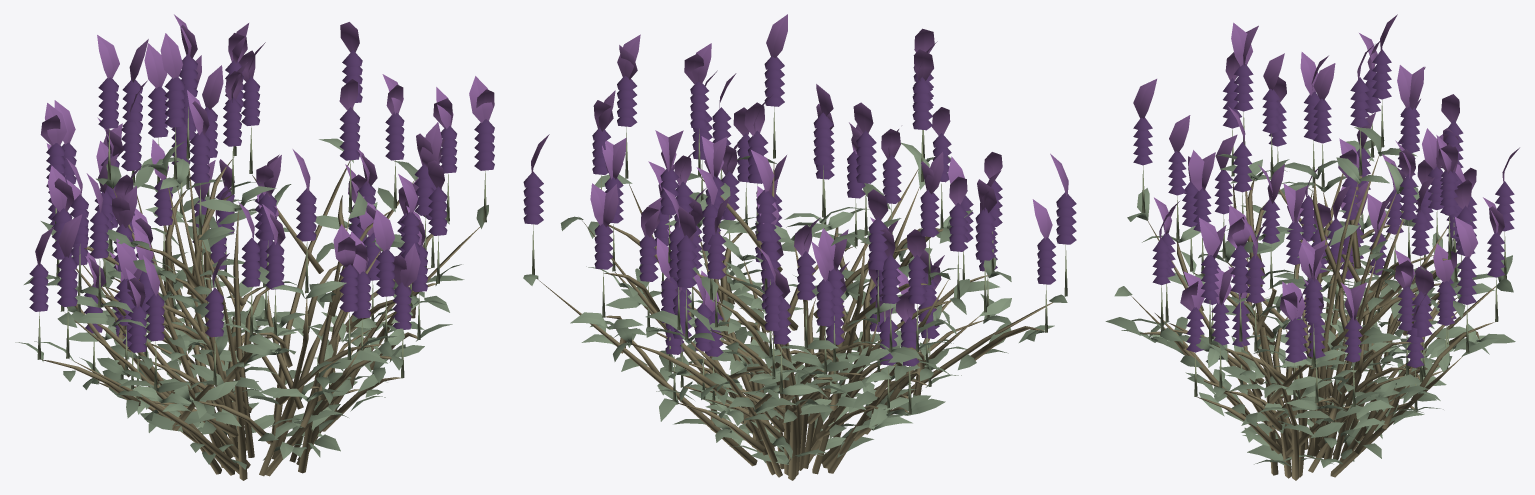
File: Lavande_Jeune_LOD1.fbx
3 renders of one model, left to right at view 1: azimuth 30°, elevation 25°; view 2: azimuth 150°, elevation 25°; view 3: azimuth 270°, elevation 25°, orthographic. The views are drawn at different scales.
Parts seen in each view (by area): view 1: Lavande_Jeune_LOD1; view 2: Lavande_Jeune_LOD1; view 3: Lavande_Jeune_LOD1.
Boxes of the visible parts, x1,y1,x2,y2 form: Lavande_Jeune_LOD1: [15, 14, 494, 480]; Lavande_Jeune_LOD1: [523, 14, 1076, 480]; Lavande_Jeune_LOD1: [1105, 14, 1519, 480].
Bounding box in the file's own units: 45.74 × 40.04 × 37.86.
